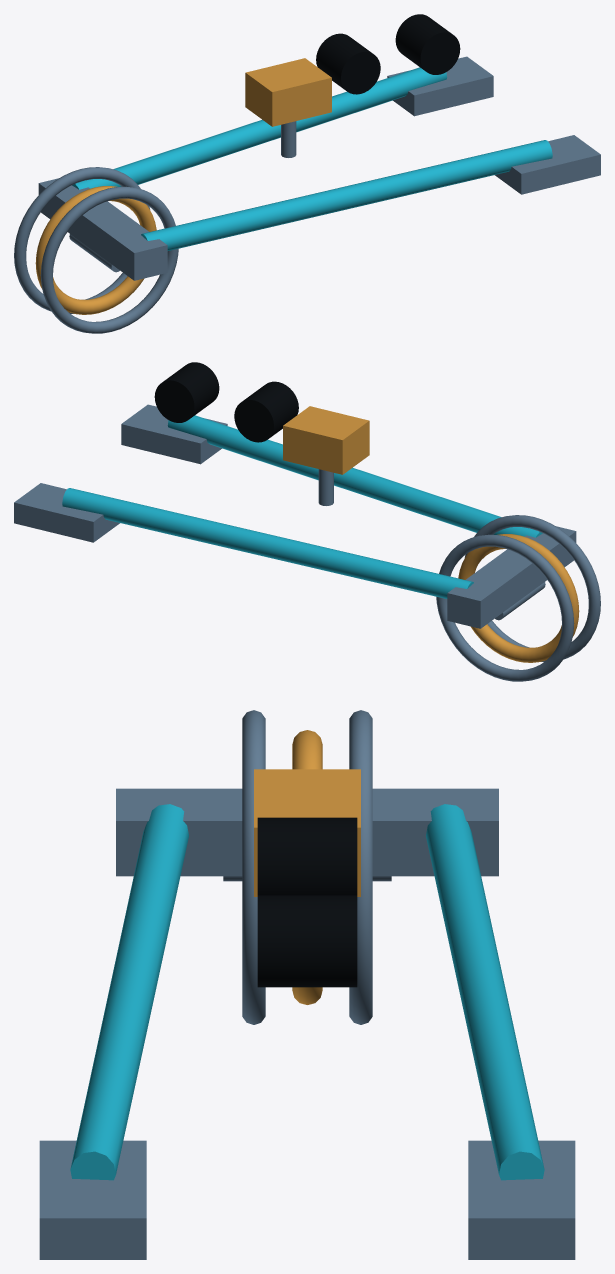
File: tether_guide.dae
3 renders of one model, top to bottom at view 1: azimuth 30°, elevation 25°; view 2: azimuth 150°, elevation 25°; view 3: azimuth 270°, elevation 25°, orthographic. The views are drawn at different scales.
Parts seen in each view (by area): view 1: node3, node1, node4, node7, node9, node2, node0, node5, node6, node11, node12, node10; view 2: node1, node3, node4, node6, node9, node0, node2, node5, node7, node11, node12, node10; view 3: node1, node3, node4, node0, node2, node11, node12, node9, node6, node7, node5.
Part boxes in pixels (<box>): node3: <box>141,140,552,250</box>; node1: <box>72,67,447,189</box>; node4: <box>38,178,167,280</box>; node7: <box>40,186,178,333</box>; node9: <box>245,58,331,126</box>; node2: <box>495,135,600,194</box>; node0: <box>387,56,493,116</box>; node5: <box>35,186,156,314</box>; node6: <box>14,167,150,313</box>; node11: <box>395,14,460,74</box>; node12: <box>316,33,380,94</box>; node10: <box>281,121,296,157</box>; node1: <box>62,488,473,598</box>; node3: <box>167,415,542,537</box>; node4: <box>447,526,576,628</box>; node6: <box>436,534,574,681</box>; node9: <box>283,406,369,474</box>; node0: <box>14,483,119,542</box>; node2: <box>121,404,227,464</box>; node5: <box>458,534,579,662</box>; node7: <box>464,515,600,661</box>; node11: <box>154,362,219,422</box>; node12: <box>234,381,298,442</box>; node10: <box>318,469,333,505</box>; node1: <box>426,804,544,1180</box>; node3: <box>70,804,188,1180</box>; node4: <box>116,788,498,876</box>; node0: <box>468,1140,575,1259</box>; node2: <box>39,1140,146,1259</box>; node11: <box>257,895,357,987</box>; node12: <box>257,817,357,895</box>; node9: <box>254,769,360,896</box>; node6: <box>349,710,372,1024</box>; node7: <box>242,710,265,1024</box>; node5: <box>292,730,322,1004</box>.
Bounding box in the file's own units: 0.763 × 0.35 × 0.313.
